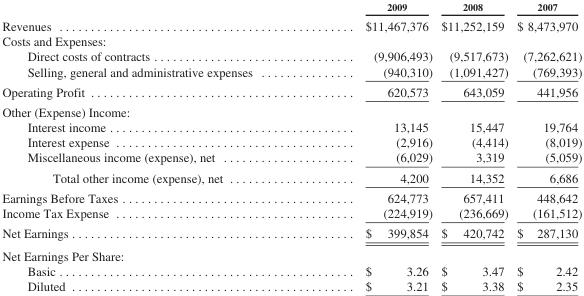table: (1, 0, 581, 292)
table column: (1, 0, 308, 292), (308, 0, 436, 292), (436, 0, 511, 292), (511, 0, 581, 292)
table column header: (1, 0, 581, 15)
table projected row header: (1, 244, 581, 263), (1, 101, 581, 119), (1, 33, 581, 48)
table row: (1, 222, 581, 244), (1, 81, 581, 101), (1, 167, 581, 187), (1, 244, 581, 263), (1, 15, 581, 33), (1, 63, 581, 81), (1, 101, 581, 119), (1, 149, 581, 167), (1, 187, 581, 205), (1, 205, 581, 222), (1, 0, 581, 15), (1, 33, 581, 48), (1, 48, 581, 63), (1, 119, 581, 134), (1, 134, 581, 149), (1, 263, 581, 278), (1, 278, 581, 292)
